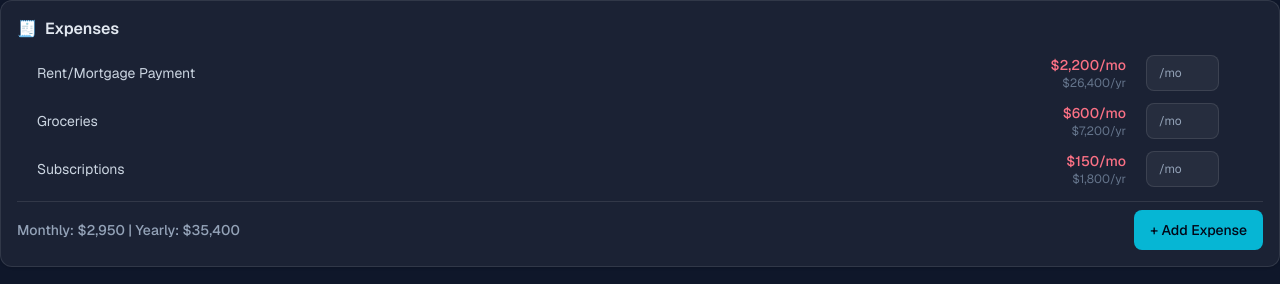
Scenario: ExpenseEntry component › shows click-to-edit input when category is clicked
This screenshot has width=1280, height=284.
Click the button with aria-label "Edit category for Groceries".
click(67, 121)  # box [29, 107, 1010, 135]
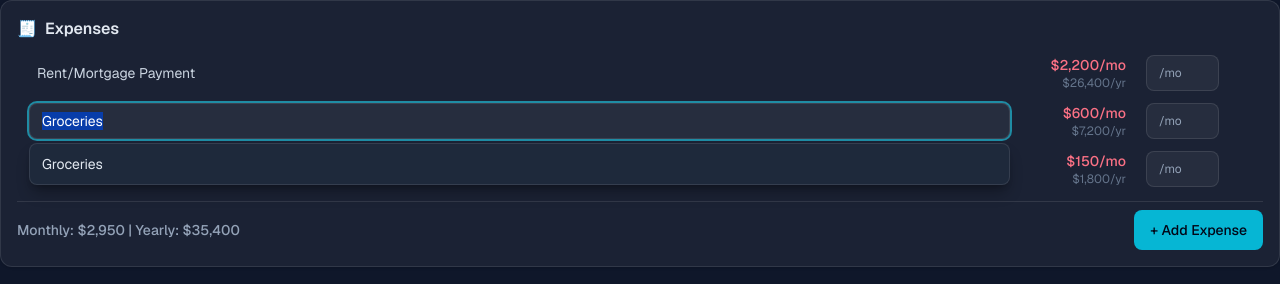
expect the field named "Edit category name" is shown: met, box [29, 103, 1010, 139]
